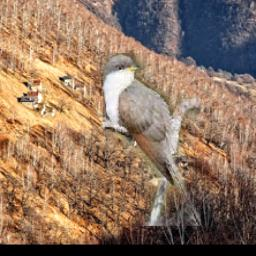Cuckoo: (104, 53, 202, 226)
